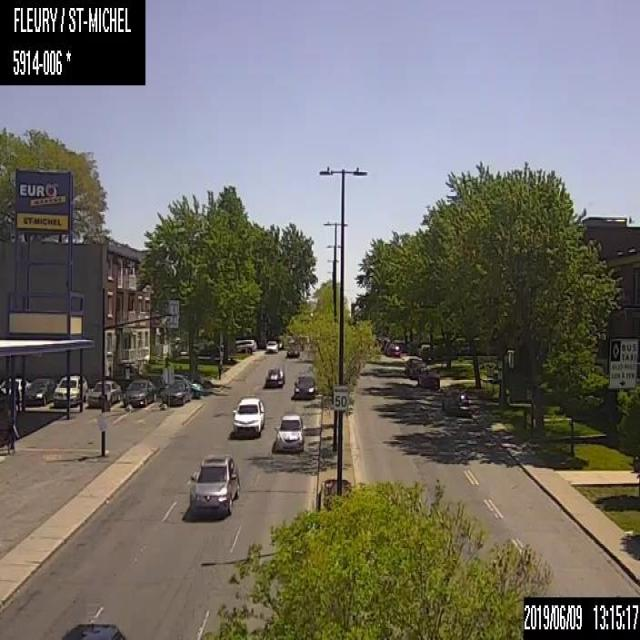vehicle: (186, 452, 240, 519), (231, 393, 264, 436), (49, 369, 87, 406), (58, 621, 126, 639), (122, 374, 157, 408), (276, 409, 306, 448), (439, 383, 474, 416), (85, 376, 121, 407), (159, 374, 191, 408), (22, 375, 54, 405), (0, 375, 31, 402), (172, 373, 203, 399), (292, 372, 315, 397), (417, 367, 442, 390), (403, 355, 427, 376), (264, 366, 284, 390), (234, 337, 258, 355), (384, 338, 400, 358), (285, 342, 300, 358), (263, 338, 278, 353)
